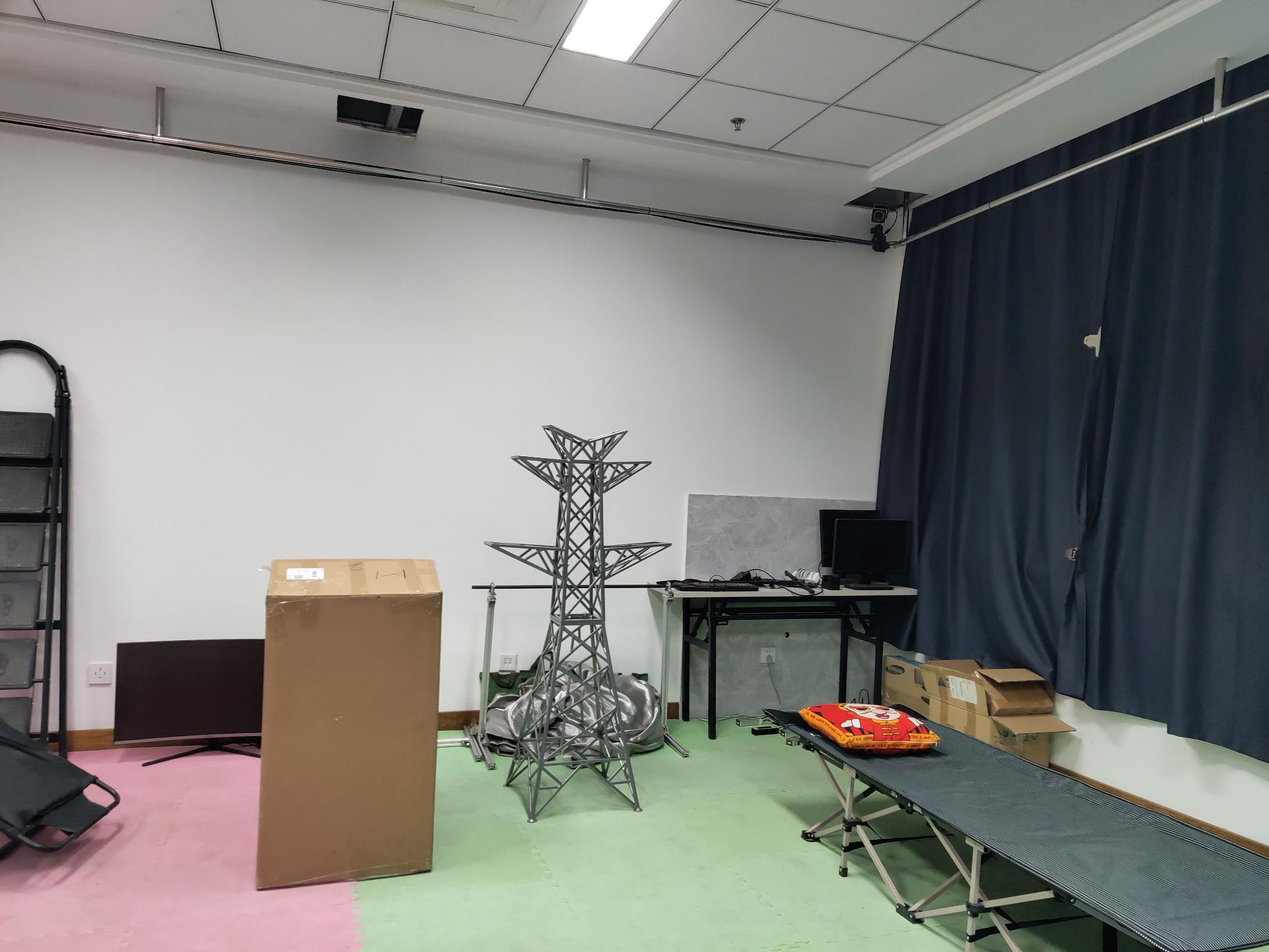tower: (485, 424, 673, 823)
